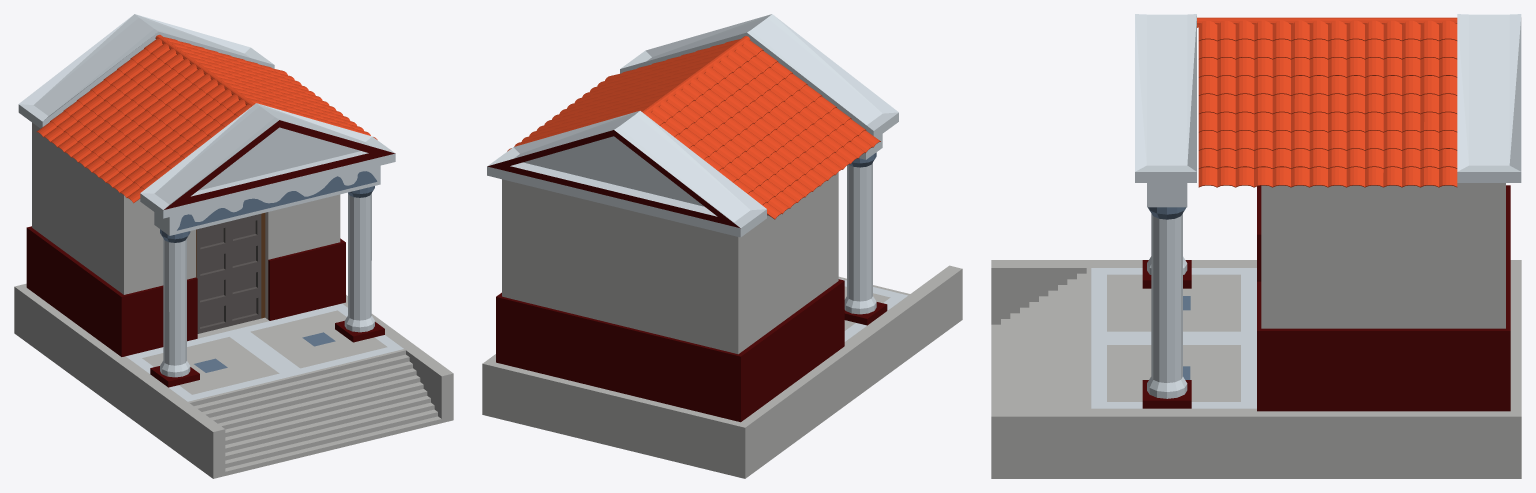
Rendered from Shrine of Mars.fbx.
3 renders of one model, left to right at view 1: azimuth 30°, elevation 25°; view 2: azimuth 150°, elevation 25°; view 3: azimuth 270°, elevation 25°, orthographic. The views are drawn at different scales.
Parts seen in each view (by area): view 1: Shrine, Foundation, Dach mit Ziegeln, Dach mit Ziegeln.001; view 2: Shrine, Foundation, Dach mit Ziegeln, Dach mit Ziegeln.001; view 3: Shrine, Foundation, Dach mit Ziegeln.001.
Boxes of the visible parts, x1,y1,x2,y2 form: Shrine: (18,14,395,387); Foundation: (14,283,453,478); Dach mit Ziegeln: (36,35,253,203); Dach mit Ziegeln.001: (159,34,377,139); Shrine: (487,14,898,422); Foundation: (482,265,962,478); Dach mit Ziegeln: (643,36,880,219); Dach mit Ziegeln.001: (507,36,746,151); Shrine: (1135,14,1521,411); Foundation: (991,260,1521,478); Dach mit Ziegeln.001: (1197,18,1457,187).
Bounding box in the file's own units: 700 × 785 × 976.
